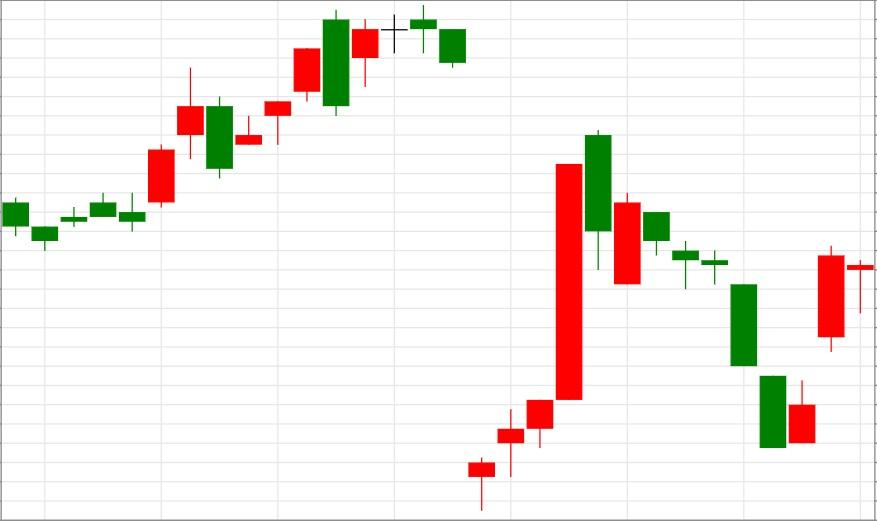three_white_soldiers_rise: (409, 4, 554, 511), (177, 48, 321, 179)
